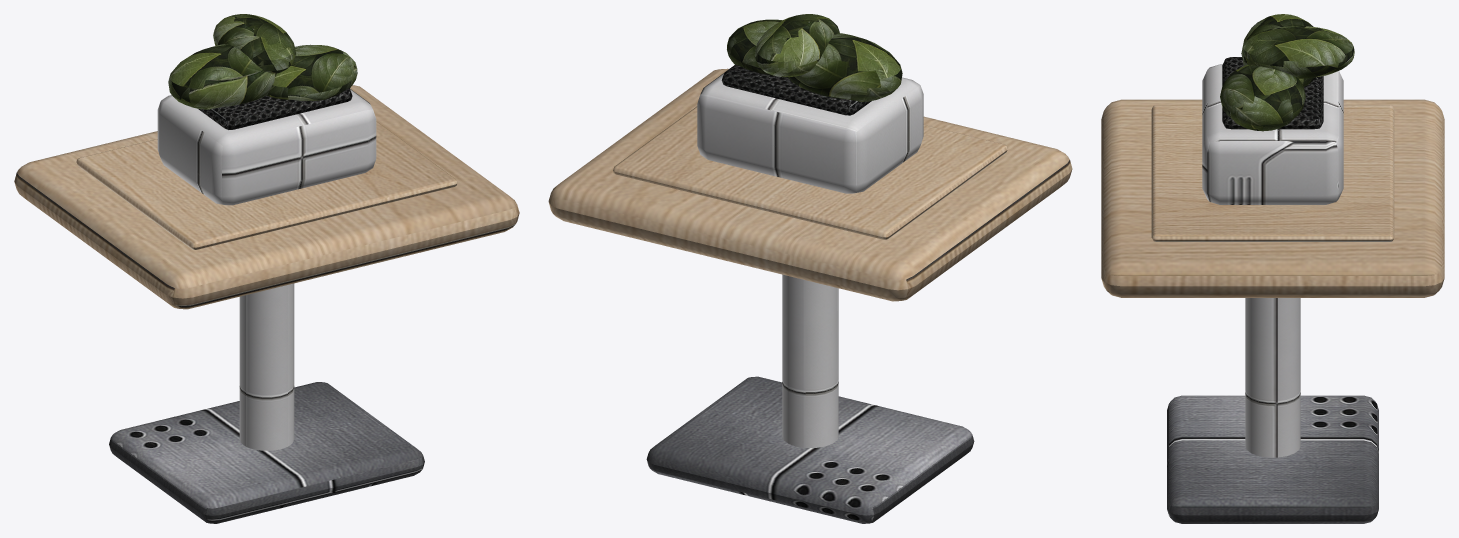
The model's file is hp_l4_cineclinic_side_table_planter.glb.
3 renders of one model, left to right at view 1: azimuth 30°, elevation 25°; view 2: azimuth 150°, elevation 25°; view 3: azimuth 270°, elevation 25°, orthographic. The views are drawn at different scales.
Visible parts, largest first — view 1: rounded_table_top, flat_foot, wood_inset_surface, white_planter, center_pedestal, leaf_cluster_a, leaf_cluster_b, leaf_cluster_c, planter_inner_shadow; view 2: rounded_table_top, flat_foot, wood_inset_surface, white_planter, center_pedestal, leaf_cluster_a, leaf_cluster_c, planter_inner_shadow, leaf_cluster_b; view 3: rounded_table_top, flat_foot, wood_inset_surface, white_planter, center_pedestal, leaf_cluster_c, leaf_cluster_b, planter_inner_shadow, leaf_cluster_a.
Boxes of the visible parts, box(x1,y1,x2,y2) form: rounded_table_top: box(14, 85, 519, 309); flat_foot: box(109, 382, 424, 523); wood_inset_surface: box(76, 121, 457, 249); white_planter: box(157, 89, 376, 205); center_pedestal: box(239, 283, 294, 450); leaf_cluster_a: box(168, 44, 276, 109); leaf_cluster_b: box(267, 44, 357, 100); leaf_cluster_c: box(213, 14, 295, 73); planter_inner_shadow: box(198, 88, 352, 129); rounded_table_top: box(548, 68, 1072, 301); flat_foot: box(646, 376, 974, 523); wood_inset_surface: box(613, 106, 1007, 239); white_planter: box(697, 72, 923, 193); center_pedestal: box(782, 274, 838, 447); leaf_cluster_a: box(788, 33, 902, 101); leaf_cluster_c: box(754, 14, 839, 77); planter_inner_shadow: box(721, 64, 871, 115); leaf_cluster_b: box(727, 19, 782, 75); rounded_table_top: box(1101, 99, 1444, 297); flat_foot: box(1167, 395, 1378, 523); wood_inset_surface: box(1151, 105, 1394, 241); white_planter: box(1202, 64, 1343, 204); center_pedestal: box(1245, 298, 1300, 457); leaf_cluster_c: box(1242, 26, 1354, 78); leaf_cluster_b: box(1220, 64, 1305, 131); planter_inner_shadow: box(1222, 57, 1323, 129); leaf_cluster_a: box(1241, 14, 1315, 86).
Size of the model in its own units: 0.82 by 0.9675 by 0.68.
6 materials, 6 textured.
